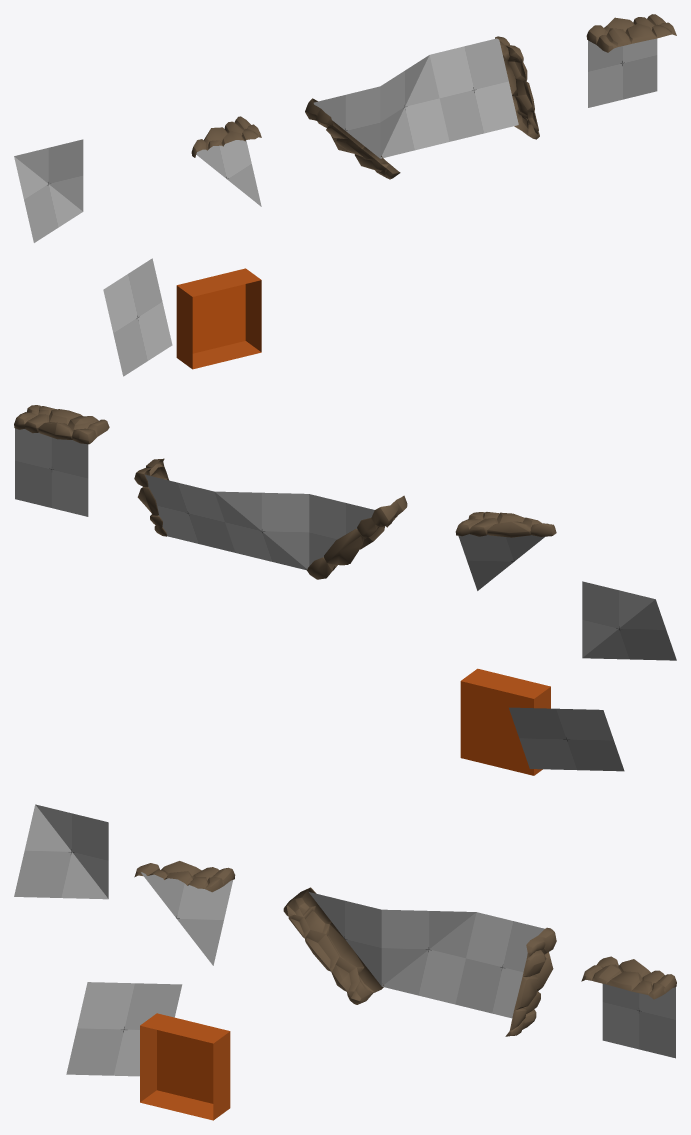
File: DesertMeshes.fbx
The picture shows the model from 3 angles, top to bottom: view 1: azimuth 30°, elevation 25°; view 2: azimuth 150°, elevation 25°; view 3: azimuth 330°, elevation 25°; orthographic projection. The views are drawn at different scales.
Parts seen in each view (by area): view 1: Lava-R.001, Slope-R.001, Slope-Angle-Corner-R.001, Slope-Corner-R.001, Slope-Angle-R.001, Block-R.001, Angle-R.001, DesertWall, Angle-Slope-R.001, DesertWallBridge, DesertWallAngle, DesertWallSlope; view 2: Lava-R.001, Slope-Angle-R.001, Slope-Corner-R.001, Slope-Angle-Corner-R.001, Block-R.001, Slope-R.001, Angle-Slope-R.001, Angle-R.001, DesertWallAngle, DesertWall, DesertWallSlope, DesertWallBridge; view 3: Lava-R.001, Slope-Corner-R.001, Slope-Angle-Corner-R.001, Slope-Angle-R.001, Slope-R.001, Block-R.001, DesertWallAngle, Angle-Slope-R.001, Angle-R.001, DesertWallBridge, DesertWall, DesertWallSlope.
Boxes of the visible parts, x1,y1,x2,y2 form: Lava-R.001: [176, 268, 261, 369]; Slope-R.001: [429, 38, 518, 141]; Slope-Angle-Corner-R.001: [14, 139, 83, 242]; Slope-Corner-R.001: [380, 55, 449, 158]; Slope-Angle-R.001: [103, 258, 172, 376]; Block-R.001: [588, 38, 657, 107]; Angle-R.001: [313, 86, 380, 158]; DesertWall: [586, 14, 676, 52]; Angle-Slope-R.001: [196, 140, 261, 206]; DesertWallBridge: [495, 36, 539, 139]; DesertWallAngle: [305, 98, 400, 179]; DesertWallSlope: [191, 116, 261, 157]; Lava-R.001: [460, 668, 550, 775]; Slope-Angle-R.001: [509, 707, 624, 771]; Slope-Corner-R.001: [214, 491, 309, 570]; Slope-Angle-Corner-R.001: [582, 581, 676, 660]; Block-R.001: [15, 428, 88, 516]; Slope-R.001: [145, 474, 235, 552]; Angle-Slope-R.001: [458, 534, 544, 590]; Angle-R.001: [309, 494, 374, 565]; DesertWallAngle: [306, 495, 407, 579]; DesertWall: [14, 405, 109, 444]; DesertWallSlope: [455, 512, 556, 537]; DesertWallBridge: [134, 458, 169, 536]; Lava-R.001: [140, 1013, 230, 1120]; Slope-Corner-R.001: [381, 909, 476, 1004]; Slope-Angle-Corner-R.001: [14, 804, 108, 899]; Slope-Angle-R.001: [66, 982, 182, 1076]; Slope-R.001: [455, 912, 544, 1018]; Block-R.001: [602, 984, 675, 1058]; DesertWallAngle: [283, 887, 383, 1004]; Angle-Slope-R.001: [141, 872, 234, 965]; Angle-R.001: [309, 892, 381, 985]; DesertWallBridge: [505, 927, 556, 1036]; DesertWall: [581, 956, 676, 999]; DesertWallSlope: [134, 861, 235, 892].
Bounding box in the file's own units: 9020 × 3143 × 1120.
